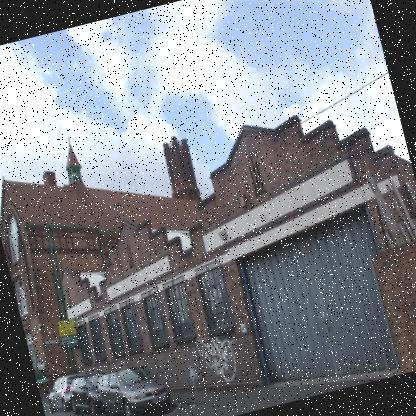Car: (96, 362, 173, 415), (66, 372, 115, 415), (44, 373, 87, 414)
